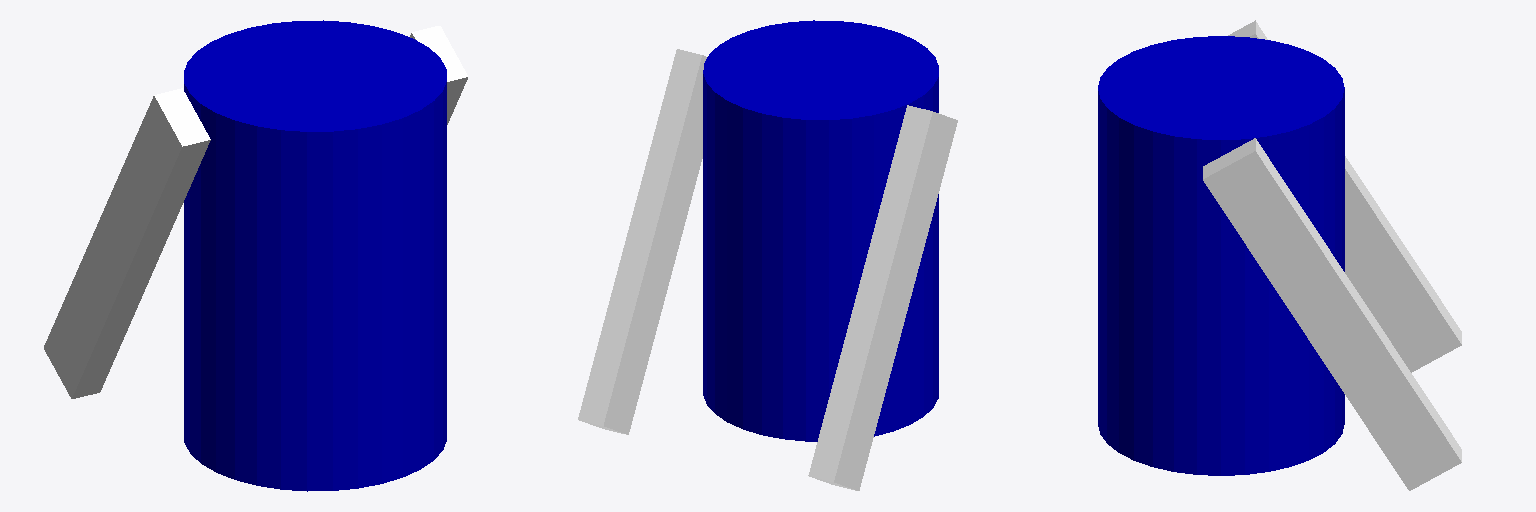
URDF robot description (test_2):
<?xml version="1.0"?>
<robot name="test_2">

    <material name="blue">
      <color rgba="0 0 0.8 1"/>
    </material>
    <material name="white">
      <color rgba="1 1 1 1"/>
    </material>

  <link name="base">
    <visual>
      <geometry>
        <cylinder length="0.6" radius="0.2"/>
      </geometry>
      <origin xyz="0 0 0.3"/>
      <material name="blue"/>
    </visual>
  </link>

  <joint name="base_to_right_leg" type="fixed">
    <parent link="base"/>
    <child link="right_leg"/>
    <origin xyz="-0.2 0 0.6"/>
  </joint>

  <link name="right_leg">
    <visual>
      <geometry>
        <box size="0.05 0.1 0.65"/>
      </geometry>
      <origin xyz="-0.025 0.18 -0.3" rpy="0.5411 0 0"/>
      <material name="white"/>
    </visual>
  </link>

  <joint name="base_to_left_leg" type="fixed">
    <parent link="base"/>
    <child link="left_leg"/>
    <origin xyz="0.2 0 0.6"/>
  </joint>

  <link name="left_leg">
    <visual>
      <geometry>
        <box size="0.05 0.1 0.65"/>
      </geometry>
      <origin xyz="0.025 0.18 -0.3" rpy="0.5411 0 0"/>
      <material name="white"/>
    </visual>
  </link>

</robot>

--- Render facts (derived) ---
The picture shows the robot from 3 angles, left to right: view 1: azimuth 30°, elevation 25°; view 2: azimuth 150°, elevation 25°; view 3: azimuth 270°, elevation 25°; orthographic projection.
Robot: test_2 — 3 links, 2 joints (2 fixed); root link base; default pose: every joint at zero.
Visible links, largest first — view 1: base, right_leg, left_leg; view 2: base, right_leg, left_leg; view 3: base, left_leg, right_leg.
Boxes of the visible links, x1=… form: base: x1=184, y1=20, x2=446, y2=491; right_leg: x1=44, y1=88, x2=210, y2=398; left_leg: x1=410, y1=26, x2=467, y2=124; base: x1=703, y1=20, x2=938, y2=441; right_leg: x1=808, y1=105, x2=957, y2=490; left_leg: x1=578, y1=49, x2=706, y2=434; base: x1=1098, y1=36, x2=1344, y2=475; left_leg: x1=1203, y1=138, x2=1461, y2=490; right_leg: x1=1228, y1=20, x2=1461, y2=372.
Size in the robot's own frame: 0.5 by 0.5903 by 0.6087 metres.
Geometry: primitives only (box / cylinder / sphere), no mesh files.
